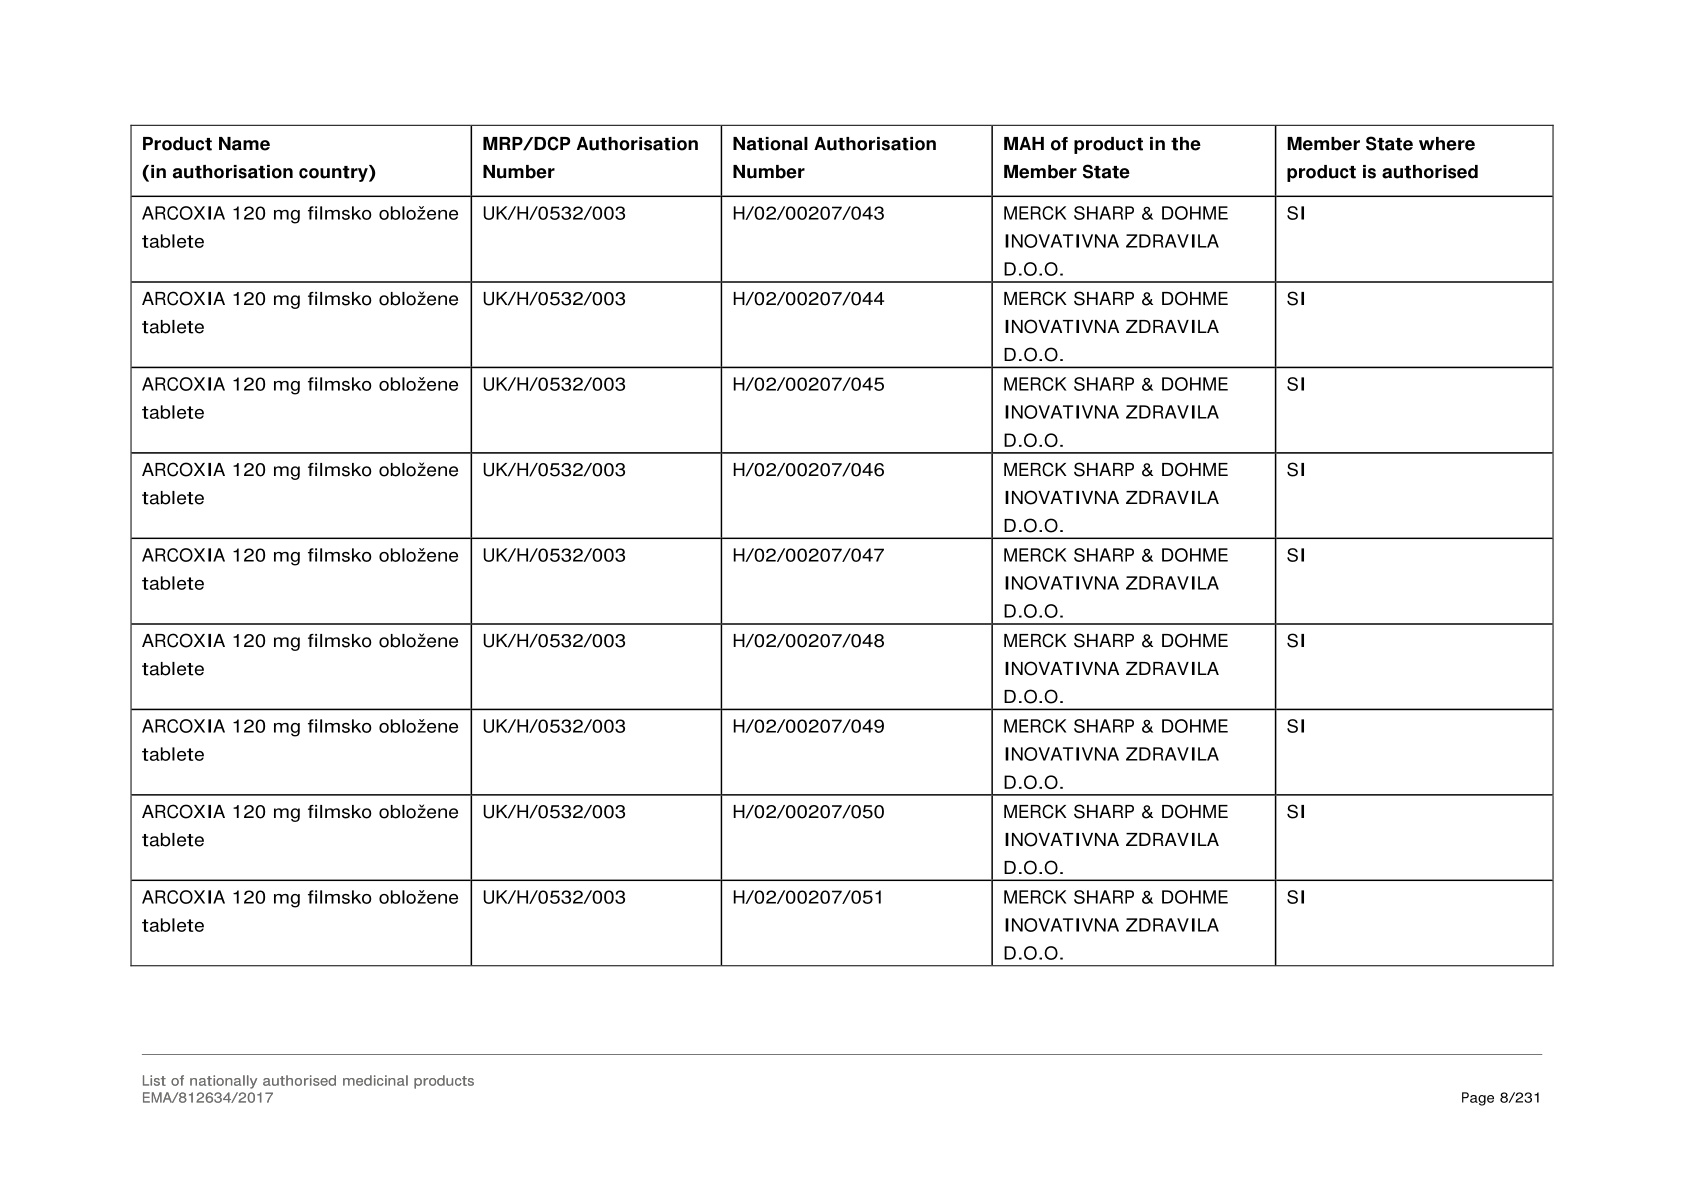full_lined: (129, 122, 1555, 968)
